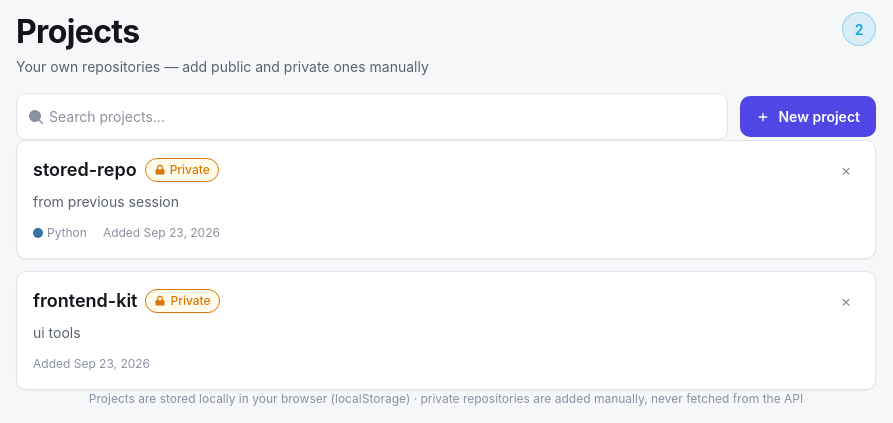
Test: ProjectsPage (integration) › filters projects live without touching the network
Check: the number of list items is 2, box x1=16 y1=140 x2=876 y2=259; x1=16 y1=271 x2=876 y2=390
Type "frontend" into the search field at x=372, y=116, box x1=16 y1=93 x2=728 y2=140
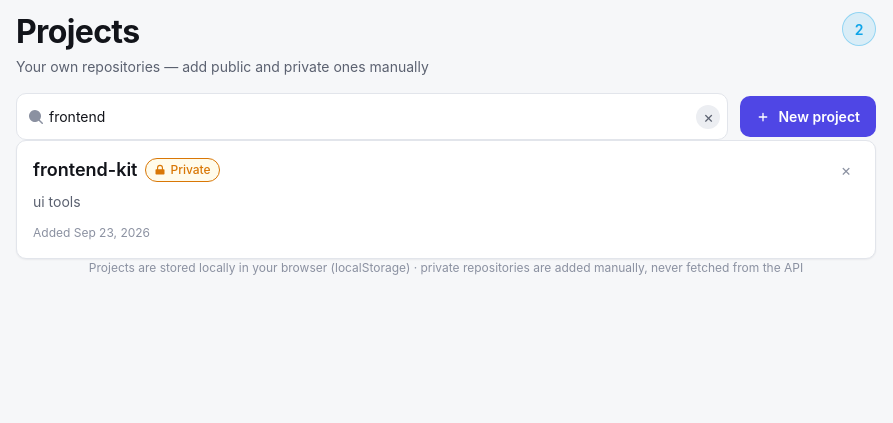
Check: the text "frontend-kit" is shown, box x1=33 y1=159 x2=138 y2=181
Check: the number of list items is 1, box x1=16 y1=140 x2=876 y2=259
Replace the text in the search field with "zzz" at x=372, y=116, box x1=16 y1=93 x2=728 y2=140
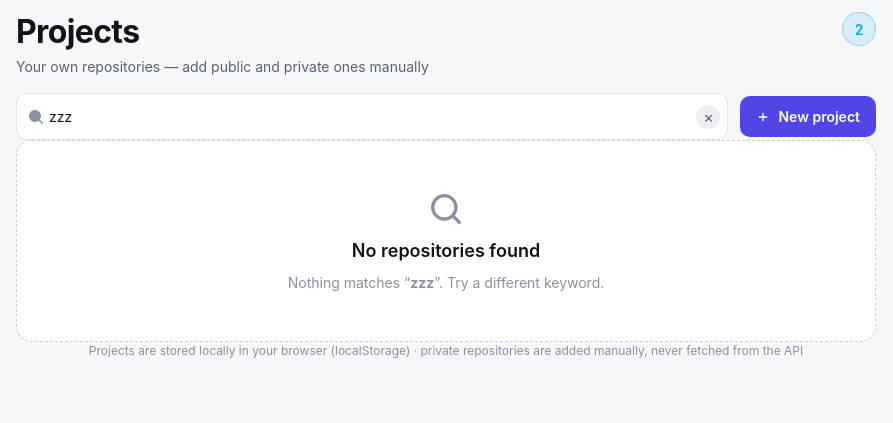
Check: no list items are shown
Check: the message "No repositories found Nothing matches “zzz”. Try a different keyword." is shown, box x1=16 y1=140 x2=876 y2=342
